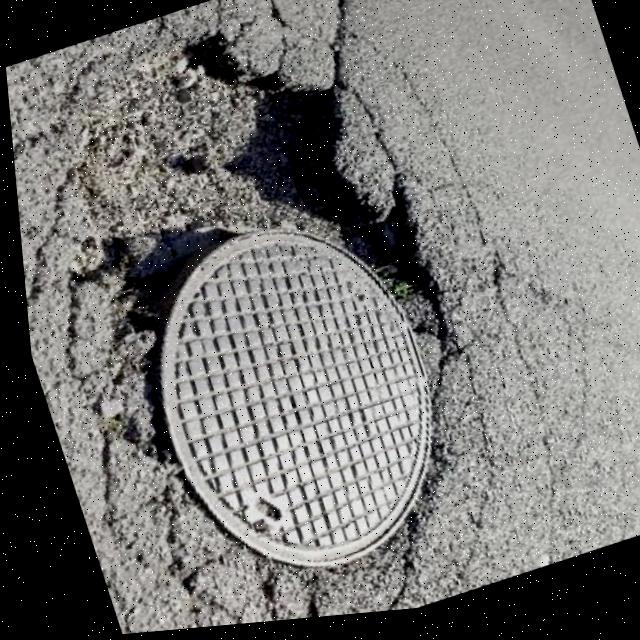Pothole: (8, 0, 461, 421)
